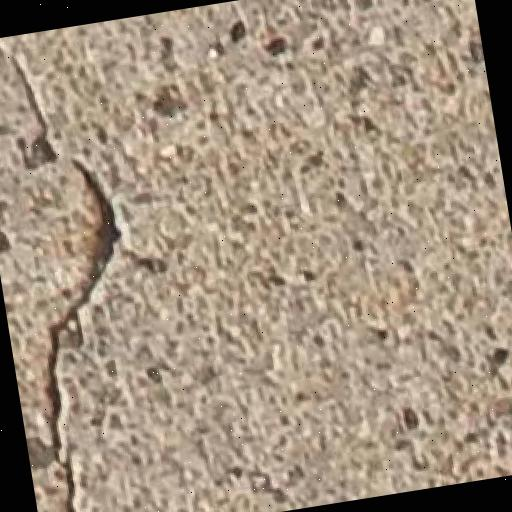spalling: (0, 47, 135, 512)
